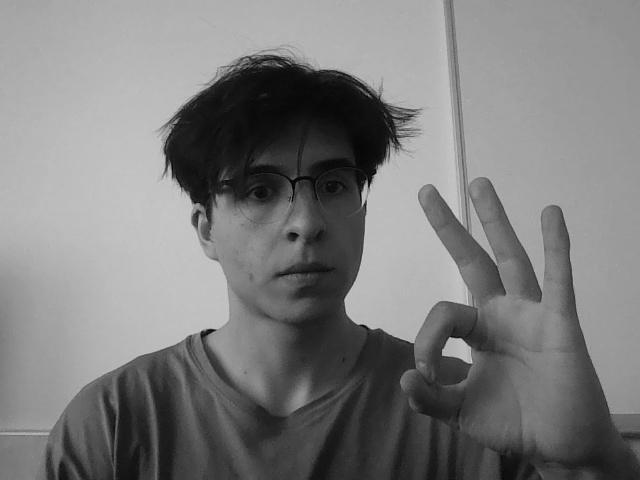OK: (402, 177, 600, 472)
